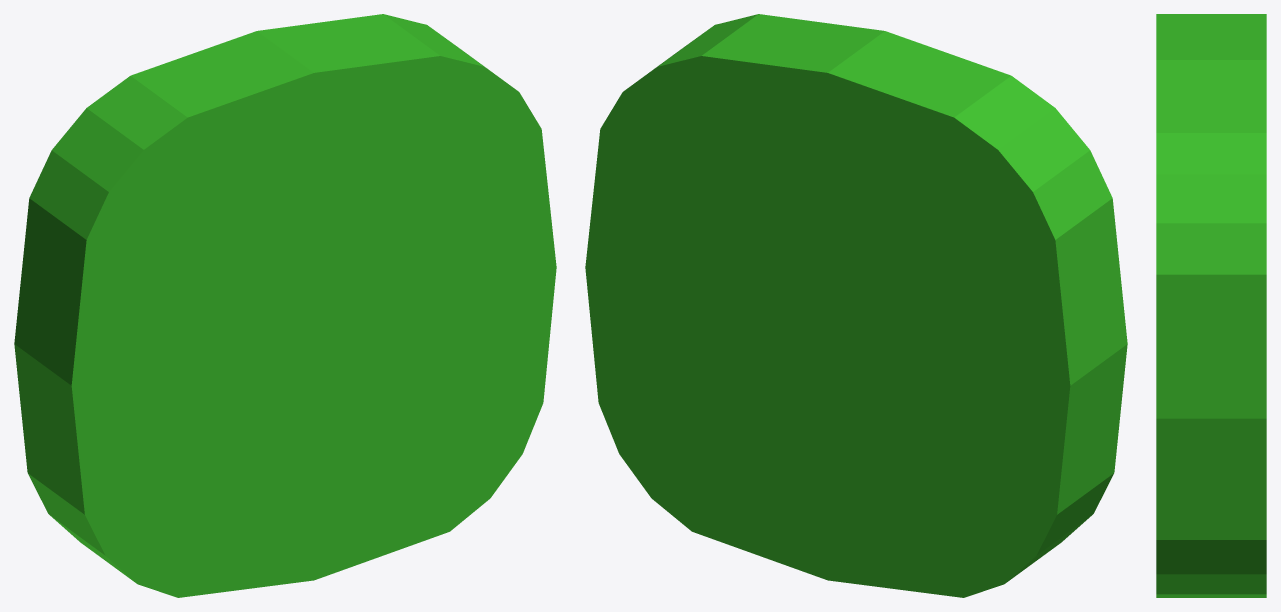
Rendered from PackageTank_Fill_1.fbx.
3 renders of one model, left to right at view 1: azimuth 30°, elevation 25°; view 2: azimuth 150°, elevation 25°; view 3: azimuth 270°, elevation 25°, orthographic. The views are drawn at different scales.
Visible parts, largest first — view 1: pCylinder30; view 2: pCylinder30; view 3: pCylinder30.
Part boxes in pixels (left/top/right/bottom): pCylinder30: left=14, top=14, right=556, bottom=597; pCylinder30: left=585, top=14, right=1127, bottom=597; pCylinder30: left=1156, top=14, right=1266, bottom=597.
Size of the model in its own units: 1.57 by 1.57 by 0.3224.
